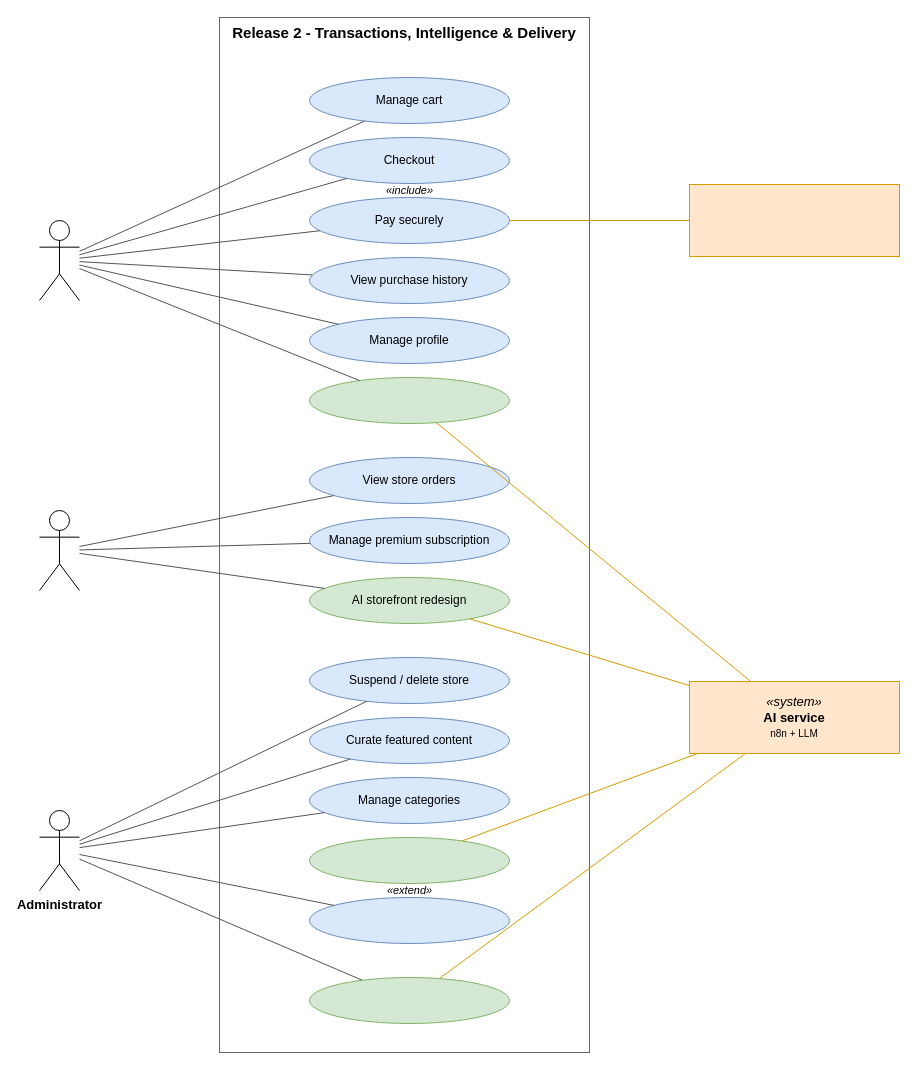
This 917x1070 diagram has some shape labels left out. The centre of each missing label's shape, as x and y in pixels:
"AI verification (store & product)" goes at (x=409, y=860).
"Customer" goes at (x=59, y=260).
"Override AI verdict" goes at (x=409, y=920).
"Seller" goes at (x=59, y=550).
"Use DB chat assistant" goes at (x=409, y=1000).
"View product suggestions" goes at (x=409, y=400).
"«system» Stripe payment gateway" goes at (x=794, y=220).
